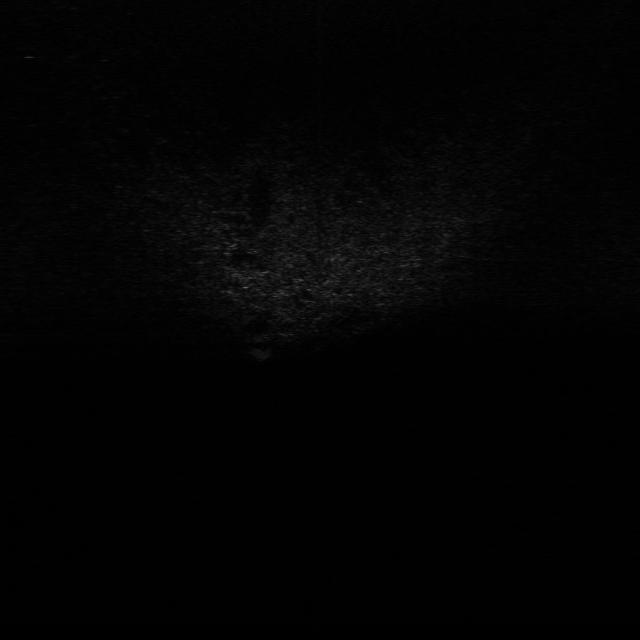cube: (243, 340, 276, 363)
